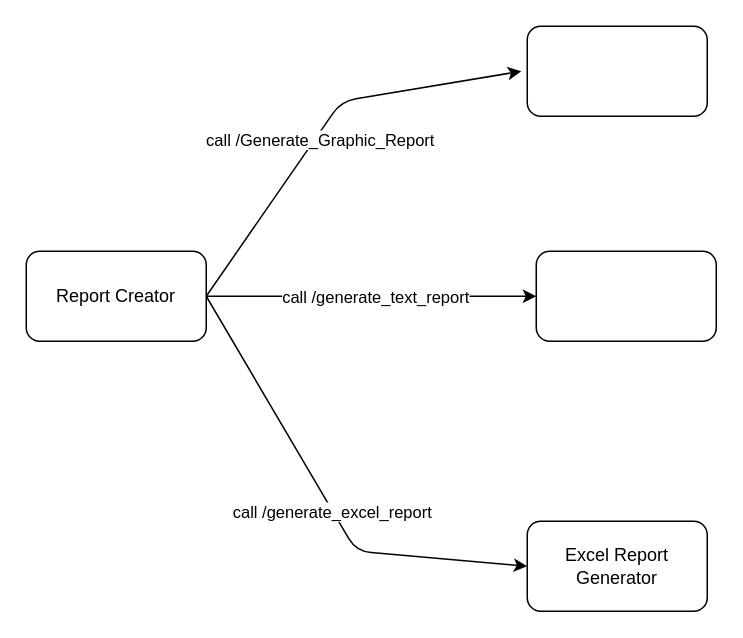
Some shapes in this 743 by 638 pixel diagram are drawn without their labels. The shapes that lost their labels are listed below. From the top down, each one's box as (x1, y1, x2, y2) in pixels, then its label:
(526, 25, 707, 116): Graphical Report Generator
(535, 250, 716, 341): Text Report Generator
